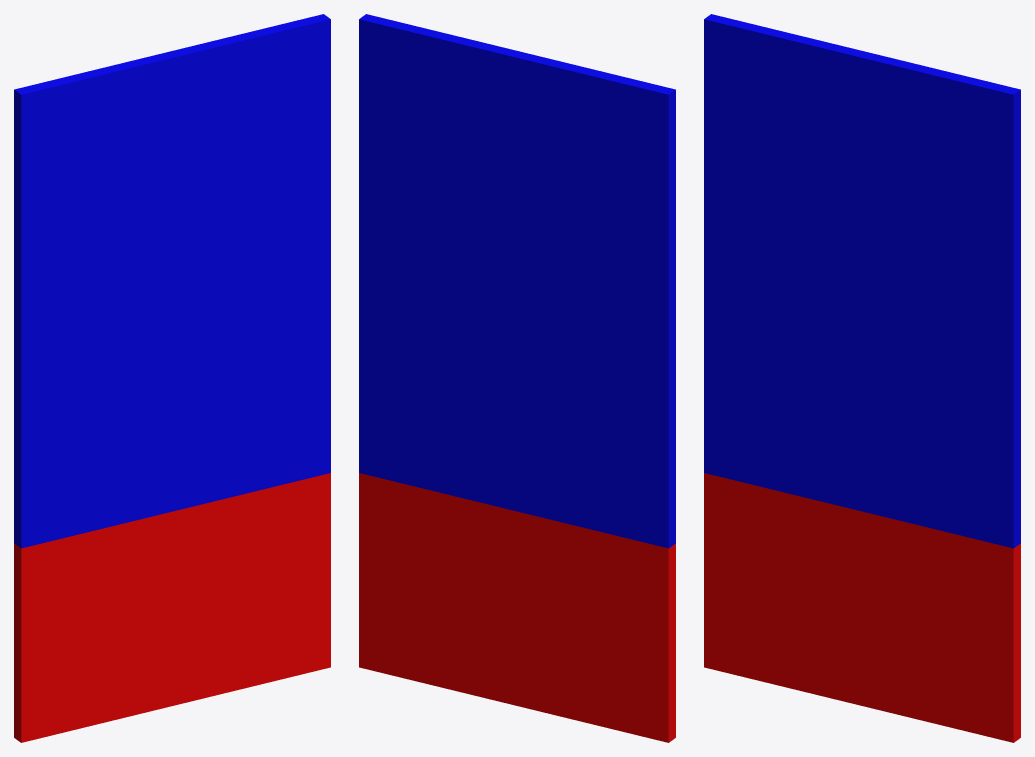
3 views of the same model, side by side, from view 1: azimuth 30°, elevation 25°; view 2: azimuth 150°, elevation 25°; view 3: azimuth 330°, elevation 25° (orthographic).
Parts seen in each view (by area): view 1: SM_500Lx20Dx1000H; view 2: SM_500Lx20Dx1000H; view 3: SM_500Lx20Dx1000H.
Boxes of the visible parts, x1,y1,x2,y2 form: SM_500Lx20Dx1000H: (14,14,330,742); SM_500Lx20Dx1000H: (359,14,675,742); SM_500Lx20Dx1000H: (704,14,1020,742).
Bounding box in the file's own units: 500 × 1000 × 20.
